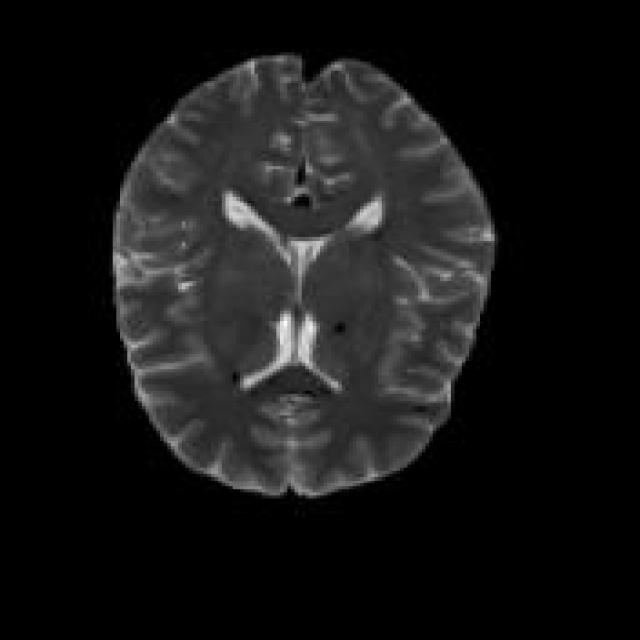CONTROL: (109, 49, 498, 498)
